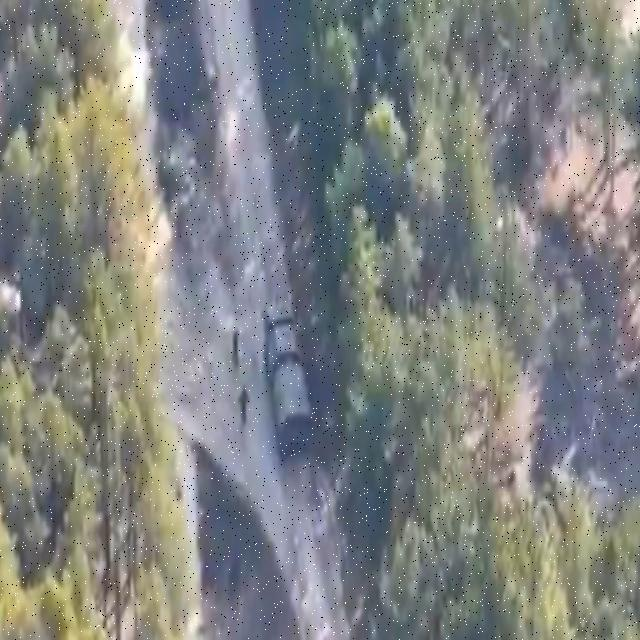TRUCK: (270, 358, 316, 458), (262, 292, 298, 376)
